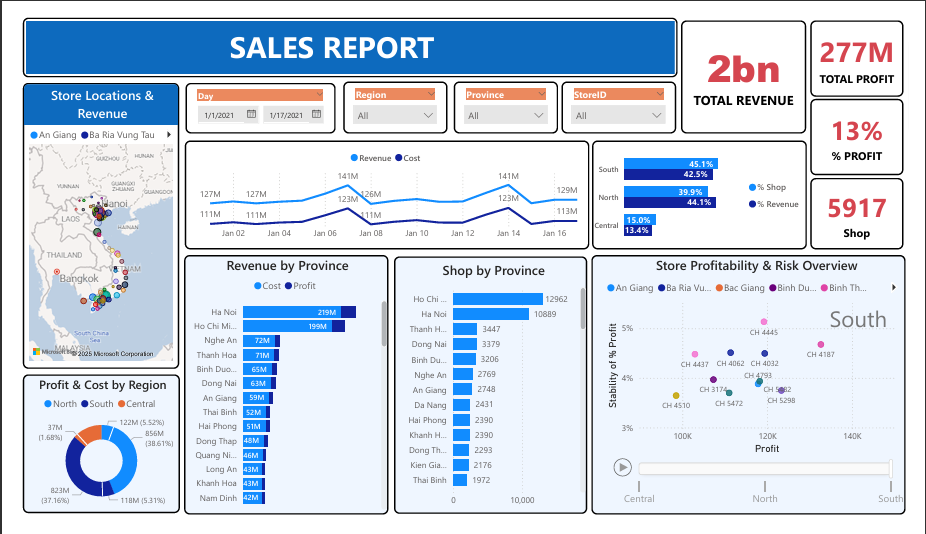

Layout of this report page (visuals, bound fields, positions):
{"tool":"powerbi","page":{"name":"Page 2","canvas":[1280,720],"ordinal":0},"visuals":[{"type":"shape","box":[5.9,0,942.4,86.3],"z":0},{"type":"textbox","box":[298.3,6.7,335,73.3],"z":1000},{"type":"card","fields":{"Values":["Sum(Ket Qua KD.Lợi Nhuận)"]},"box":[1138.5,4.4,134.6,109.8],"z":2000},{"type":"card","fields":{"Values":["Sum(Ket Qua KD.Doanh Thu)"]},"box":[952.7,4.4,180,162.4],"z":3000},{"type":"card","fields":{"Values":["DS Cua Hang.% PROFIT"]},"box":[1138.5,117.1,134.6,109.8],"z":4000},{"type":"map","title":"Store Locations & Revenue","fields":{"Y":["DS Tinh.latitude"],"Series":["DS Tinh.Tỉnh"],"X":["DS Tinh.longitude"],"Size":["Sum(Ket Qua KD.Doanh Thu)"]},"box":[5.7,94.3,225.7,411.4],"z":5000},{"type":"scatterChart","title":"Store Profitability & Risk Overview","fields":{"Category":["Ket Qua KD.Mã Cửa Hàng"],"Play":["DS Tinh.Khu Vực"],"X":["Sum(Ket Qua KD.Lợi Nhuận)"],"Series":["DS Cua Hang.Tỉnh"],"Y":["DS Cua Hang.Std_%Profit"]},"box":[823.9,342.4,452.2,373.2],"z":6000},{"type":"slicer","fields":{"Values":["DS Tinh.Khu Vực"]},"box":[466.7,92.2,150,74.4],"z":7000},{"type":"slicer","fields":{"Values":["DS Cua Hang.Mã Cửa Hàng"]},"box":[781.1,92.2,164.4,74.4],"z":8000},{"type":"slicer","fields":{"Values":["Ket Qua KD.Ngày"]},"box":[240,94.4,215.6,72.2],"z":9000},{"type":"barChart","title":"Revenue by Province","fields":{"Category":["DS Tinh.Tỉnh"],"Y":["Sum(Ket Qua KD.Chi Phí)","Sum(Ket Qua KD.Lợi Nhuận)"]},"box":[238,342,294,374],"z":10000},{"type":"donutChart","title":"Profit & Cost by Region","fields":{"Category":["DS Tinh.Khu Vực"],"Y":["Sum(Ket Qua KD.Lợi Nhuận)","Sum(Ket Qua KD.Chi Phí)"]},"box":[6,514,226,200],"z":11000},{"type":"clusteredBarChart","title":"% SHOP & % REVENUE BY REGION","fields":{"Y":["CountNonNull(DS Cua Hang.Mã Cửa Hàng)","Sum(Ket Qua KD.Doanh Thu)"],"Category":["DS Tinh.Khu Vực"]},"box":[825.4,177.1,308.8,156.6],"z":12000},{"type":"lineChart","fields":{"Category":["Ket Qua KD.Ngày"],"Y":["Sum(Ket Qua KD.Doanh Thu)","Sum(Ket Qua KD.Chi Phí)"]},"box":[238.5,177.1,582.4,156.6],"z":13000},{"type":"card","fields":{"Values":["Count(DS Cua Hang.Mã Cửa Hàng)"]},"box":[1138.5,231.2,134.6,102.4],"z":14000},{"type":"slicer","fields":{"Values":["DS Tinh.Tỉnh"]},"box":[625.6,92.2,150,74.4],"z":16000},{"type":"clusteredBarChart","title":"Shop by Province","fields":{"Y":["CountNonNull(Ket Qua KD.Mã Cửa Hàng)"],"Category":["DS Cua Hang.Tỉnh"]},"box":[540,344,278,371],"z":16001}]}

Visuals, with their boxes in screenshot pixels (x1, y1, x2, y2), scaled from the page's 1280x720 canvas onto the 926x534 screenshot:
shape: [x1=4, y1=0, x2=686, y2=64]
textbox: [x1=216, y1=5, x2=458, y2=59]
card - Sum(Ket Qua KD.Lợi Nhuận): [x1=824, y1=3, x2=921, y2=85]
card - Sum(Ket Qua KD.Doanh Thu): [x1=689, y1=3, x2=819, y2=124]
card - DS Cua Hang.% PROFIT: [x1=824, y1=87, x2=921, y2=168]
"Store Locations & Revenue" map: [x1=4, y1=70, x2=167, y2=375]
"Store Profitability & Risk Overview" scatterChart: [x1=596, y1=254, x2=923, y2=531]
slicer - DS Tinh.Khu Vực: [x1=338, y1=68, x2=446, y2=124]
slicer - DS Cua Hang.Mã Cửa Hàng: [x1=565, y1=68, x2=684, y2=124]
slicer - Ket Qua KD.Ngày: [x1=174, y1=70, x2=330, y2=124]
"Revenue by Province" barChart: [x1=172, y1=254, x2=385, y2=531]
"Profit & Cost by Region" donutChart: [x1=4, y1=381, x2=168, y2=530]
"% SHOP & % REVENUE BY REGION" clusteredBarChart: [x1=597, y1=131, x2=821, y2=247]
lineChart - Ket Qua KD.Ngày x Sum(Ket Qua KD.Doanh Thu): [x1=173, y1=131, x2=594, y2=247]
card - Count(DS Cua Hang.Mã Cửa Hàng): [x1=824, y1=171, x2=921, y2=247]
slicer - DS Tinh.Tỉnh: [x1=453, y1=68, x2=561, y2=124]
"Shop by Province" clusteredBarChart: [x1=391, y1=255, x2=592, y2=530]
